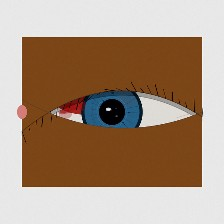hemorrhage_spot: (44, 67, 138, 141)
